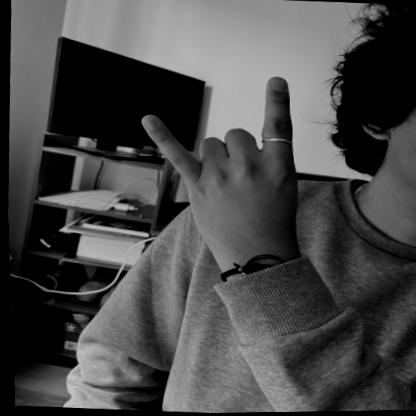U: (130, 64, 307, 267)
